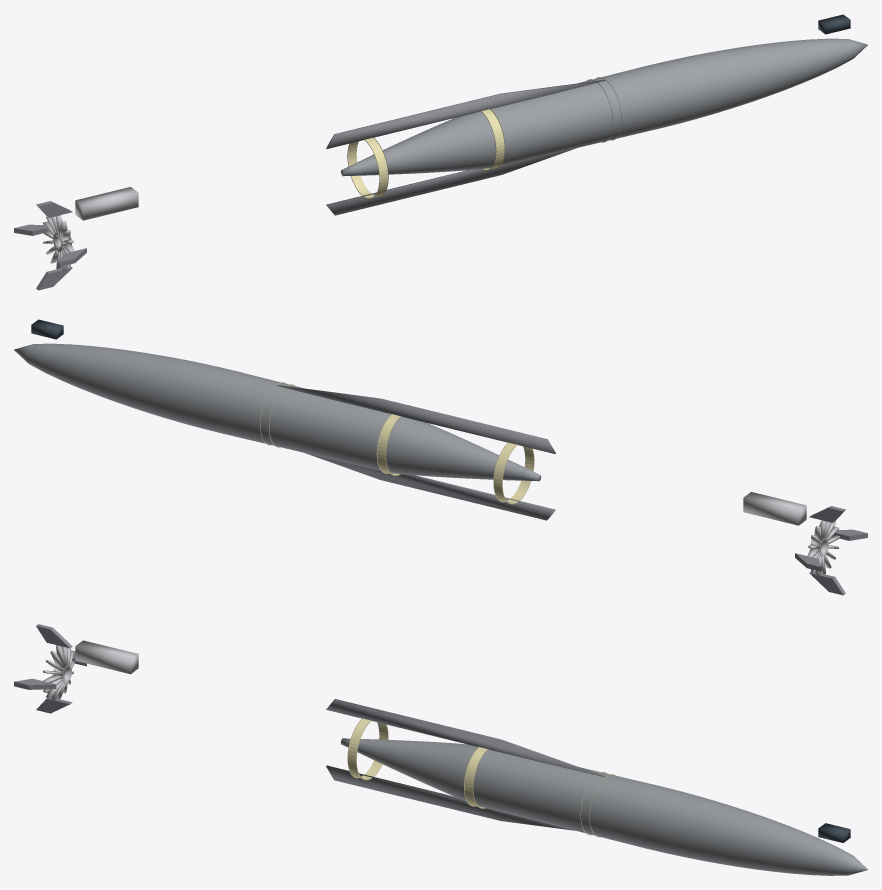
File: RU_TORP_TEST71_LOD0.fbx
3 renders of one model, top to bottom at view 1: azimuth 30°, elevation 25°; view 2: azimuth 150°, elevation 25°; view 3: azimuth 330°, elevation 25°, orthographic.
Visible parts, largest first — view 1: WPN_RU_TORP_TEST71_LOD0_Body, WPN_RU_TORP_TEST71_LOD0_Detail, WPN_RU_TORP_TEST71_LOD0_Marking, WPN_RU_TORP_TEST71_LOD0_Fins, WPN_RU_TORP_TEST71_LOD0_Propulsor; view 2: WPN_RU_TORP_TEST71_LOD0_Body, WPN_RU_TORP_TEST71_LOD0_Detail, WPN_RU_TORP_TEST71_LOD0_Marking, WPN_RU_TORP_TEST71_LOD0_Fins, WPN_RU_TORP_TEST71_LOD0_Propulsor; view 3: WPN_RU_TORP_TEST71_LOD0_Body, WPN_RU_TORP_TEST71_LOD0_Detail, WPN_RU_TORP_TEST71_LOD0_Marking, WPN_RU_TORP_TEST71_LOD0_Fins, WPN_RU_TORP_TEST71_LOD0_Propulsor.
Boxes of the visible parts, <box> form: WPN_RU_TORP_TEST71_LOD0_Body: <box>340,38,867,176</box>; WPN_RU_TORP_TEST71_LOD0_Detail: <box>75,80,605,220</box>; WPN_RU_TORP_TEST71_LOD0_Marking: <box>347,77,621,199</box>; WPN_RU_TORP_TEST71_LOD0_Fins: <box>14,201,86,290</box>; WPN_RU_TORP_TEST71_LOD0_Propulsor: <box>42,215,74,270</box>; WPN_RU_TORP_TEST71_LOD0_Body: <box>14,343,541,481</box>; WPN_RU_TORP_TEST71_LOD0_Detail: <box>276,385,806,525</box>; WPN_RU_TORP_TEST71_LOD0_Marking: <box>260,382,534,504</box>; WPN_RU_TORP_TEST71_LOD0_Fins: <box>795,506,867,595</box>; WPN_RU_TORP_TEST71_LOD0_Propulsor: <box>807,520,839,575</box>; WPN_RU_TORP_TEST71_LOD0_Body: <box>340,738,867,875</box>; WPN_RU_TORP_TEST71_LOD0_Detail: <box>75,640,605,830</box>; WPN_RU_TORP_TEST71_LOD0_Marking: <box>347,718,615,837</box>; WPN_RU_TORP_TEST71_LOD0_Fins: <box>14,624,86,713</box>; WPN_RU_TORP_TEST71_LOD0_Propulsor: <box>43,645,74,700</box>.
Bounding box in the file's own units: 7.98 × 0.7715 × 0.7715.
